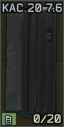KAC 7.62x51 20-round steel magazine: (0, 0, 64, 127)
